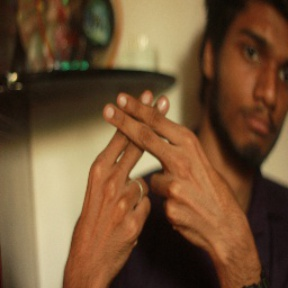F: (83, 73, 196, 200)
